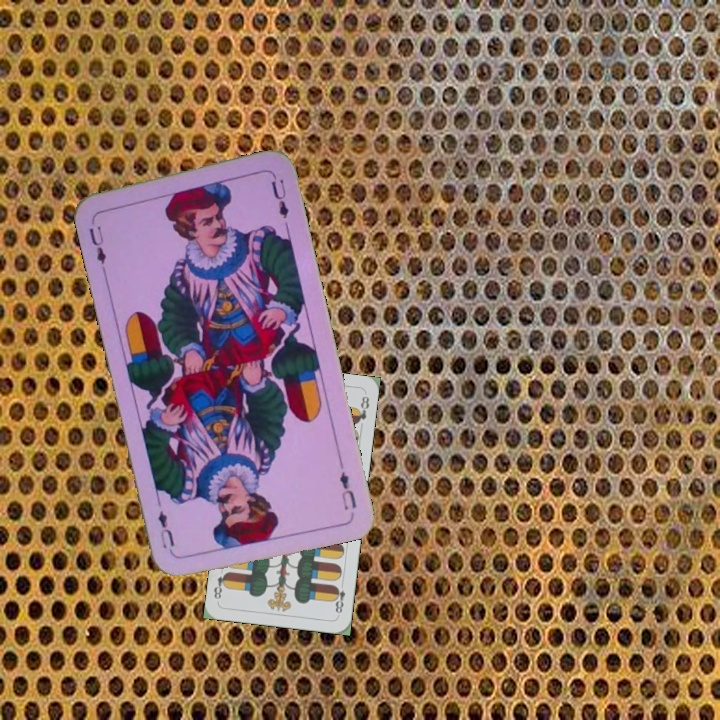E8: (330, 578, 348, 618)
EU: (85, 214, 109, 273), (335, 467, 359, 513)
